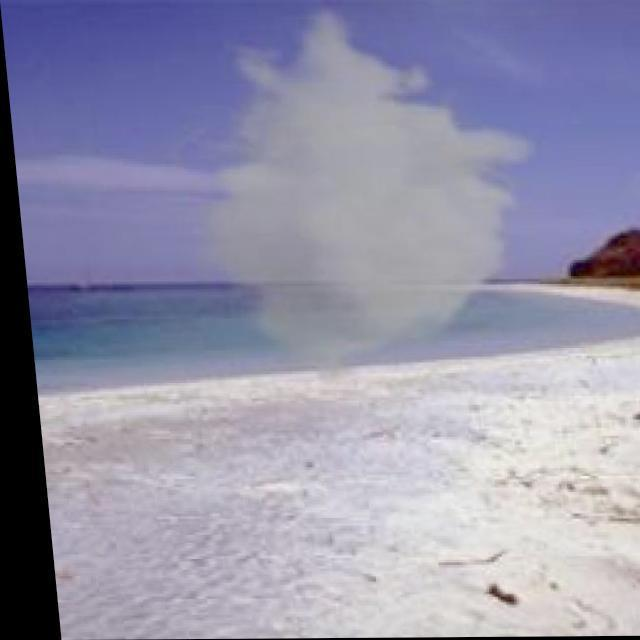Smoke: (184, 5, 570, 467)
